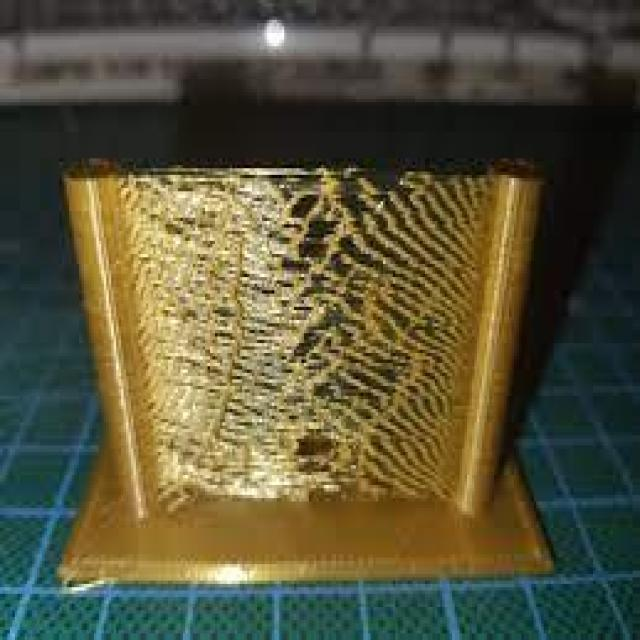spaghetti: (111, 167, 497, 503)
